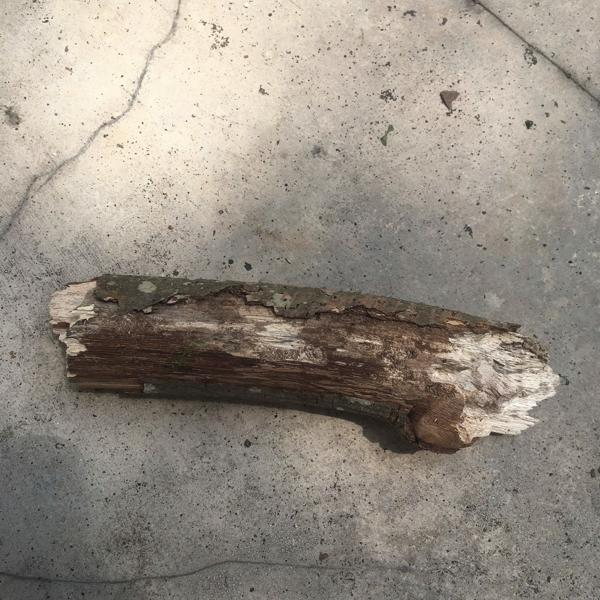Organik: (0, 262, 581, 464)
